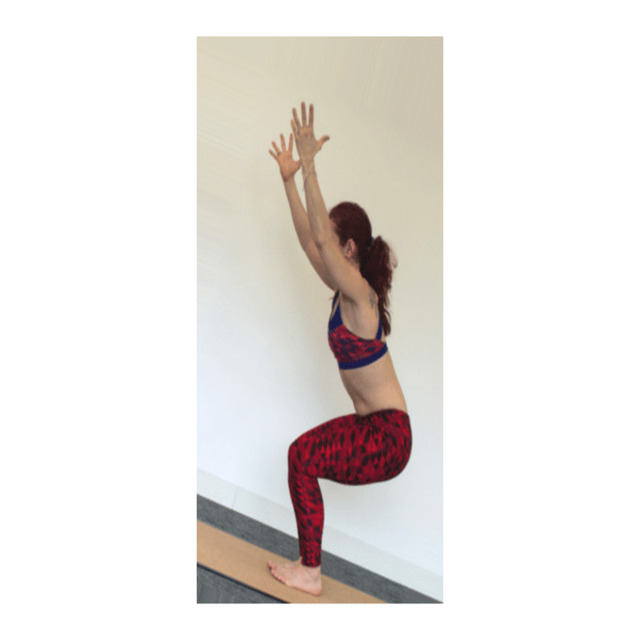Squat_Pose: (265, 102, 417, 602)
